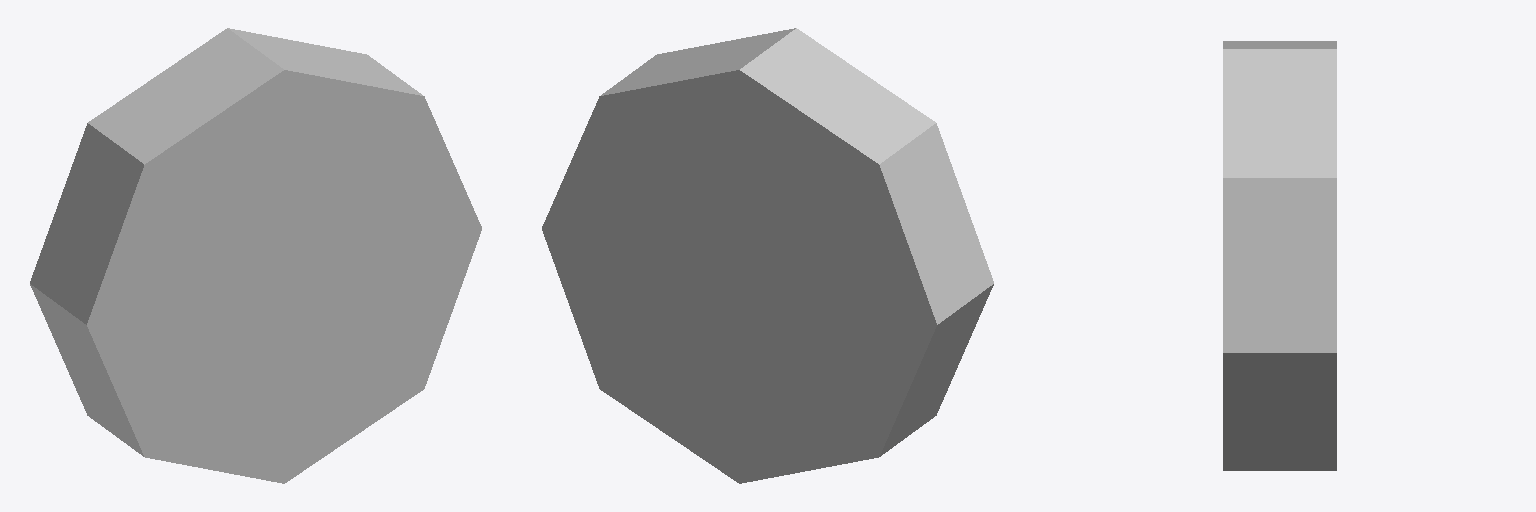
The model's file is wheel_one.obj.
3 renders of one model, left to right at view 1: azimuth 30°, elevation 25°; view 2: azimuth 150°, elevation 25°; view 3: azimuth 270°, elevation 25°, orthographic.
Parts seen in each view (by area): view 1: wheel; view 2: wheel; view 3: wheel.
Boxes of the visible parts, <box> form: wheel: <box>30,28,481,483</box>; wheel: <box>542,28,993,483</box>; wheel: <box>1223,41,1336,470</box>.
Bounding box in the file's own units: 2 × 2 × 0.5.